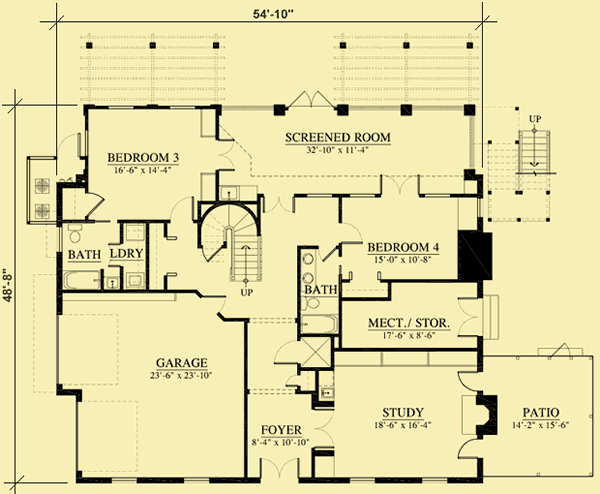bathroom which has his and her sink, large sink, tub and a saperate shower space: (296, 242, 343, 337)
bathroom with tub, small and large sink with access to laundry room: (59, 218, 148, 296)
these are stairs to the upper floors: (196, 202, 265, 297)
these are stairs to the upper floors outside the house: (483, 130, 555, 227)
this is a garage outside: (55, 296, 249, 485)
this is a patio outside: (476, 354, 592, 479)
